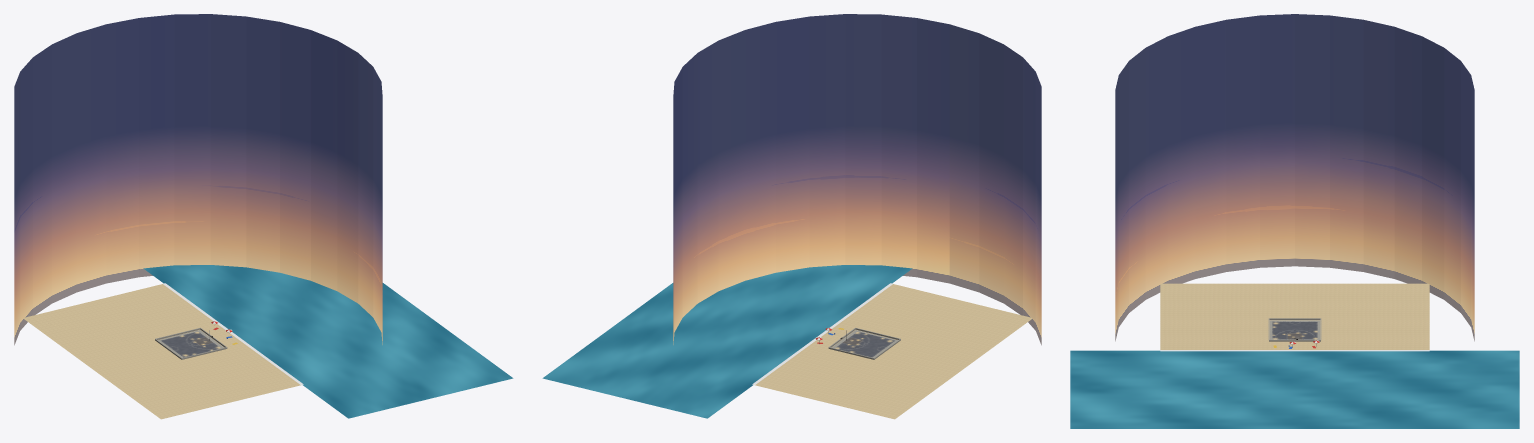
The model's file is beach.glb.
3 views of the same model, side by side, from view 1: azimuth 30°, elevation 25°; view 2: azimuth 150°, elevation 25°; view 3: azimuth 270°, elevation 25° (orthographic). The views are drawn at different scales.
Parts seen in each view (by area): view 1: Sky, Ocean, Sand, Court, Shore; view 2: Sky, Ocean, Sand, Court, Shore; view 3: Sky, Ocean, Sand, Court, Shore.
Boxes of the visible parts, x1=… form: Sky: x1=14, y1=14, x2=382, y2=345; Ocean: x1=143, y1=265, x2=513, y2=418; Sand: x1=24, y1=284, x2=300, y2=419; Court: x1=161, y1=331, x2=220, y2=357; Shore: x1=163, y1=283, x2=303, y2=384; Sky: x1=673, y1=14, x2=1041, y2=345; Ocean: x1=542, y1=265, x2=912, y2=418; Sand: x1=755, y1=284, x2=1031, y2=419; Court: x1=835, y1=331, x2=894, y2=357; Shore: x1=752, y1=283, x2=892, y2=384; Sky: x1=1115, y1=14, x2=1474, y2=341; Ocean: x1=1070, y1=350, x2=1519, y2=428; Sand: x1=1160, y1=283, x2=1429, y2=349; Court: x1=1272, y1=321, x2=1317, y2=339; Shore: x1=1160, y1=350, x2=1429, y2=351.
Bounding box in the file's own units: 135 × 93 × 150.
15 materials, 10 textured.
